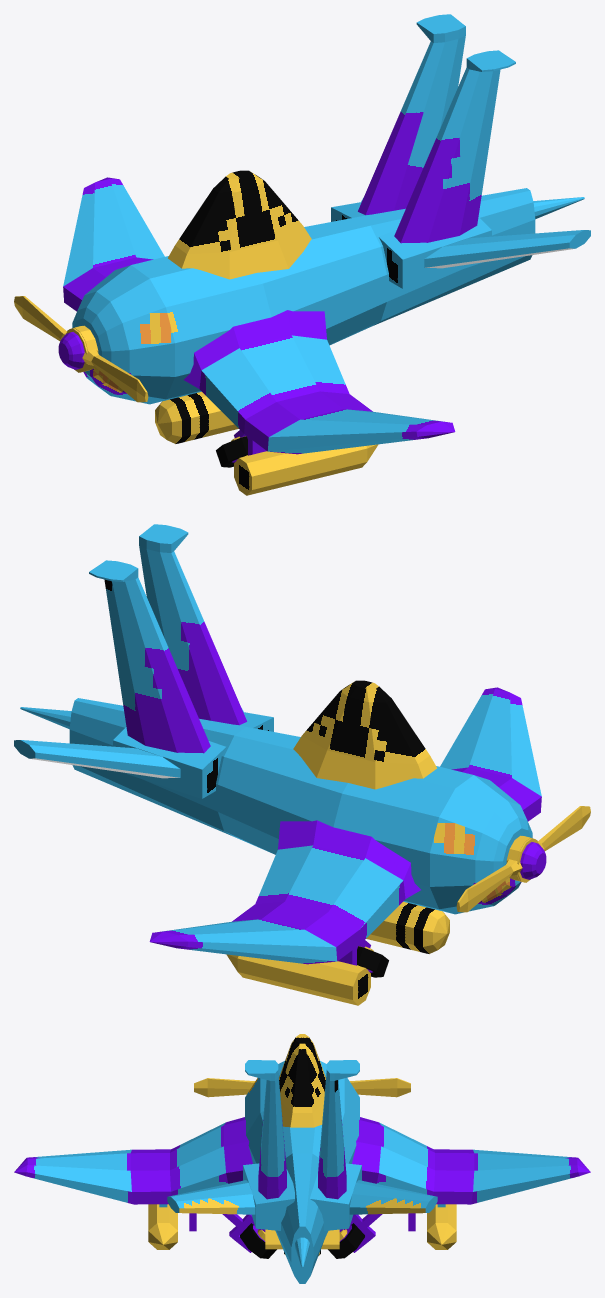
Rendered from AeroA.glb.
The picture shows the model from 3 angles, top to bottom: view 1: azimuth 30°, elevation 25°; view 2: azimuth 150°, elevation 25°; view 3: azimuth 270°, elevation 25°; orthographic projection. The views are drawn at different scales.
Visible parts, largest first — view 1: Corpo, Bomba, Helice; view 2: Corpo, Bomba, Helice; view 3: Corpo, Helice, Bomba.
Boxes of the visible parts, bbox=[...] form: Corpo: bbox=[58, 14, 590, 495]; Bomba: bbox=[155, 391, 238, 443]; Helice: bbox=[14, 296, 148, 402]; Corpo: bbox=[14, 524, 546, 1005]; Bomba: bbox=[366, 901, 449, 953]; Helice: bbox=[456, 806, 590, 912]; Corpo: bbox=[14, 1034, 590, 1283]; Helice: bbox=[194, 1078, 410, 1097]; Bomba: bbox=[265, 1229, 339, 1255].
Bounding box in the file's own units: 1.92 × 1.23 × 2.22.
3 materials, 3 textured.
